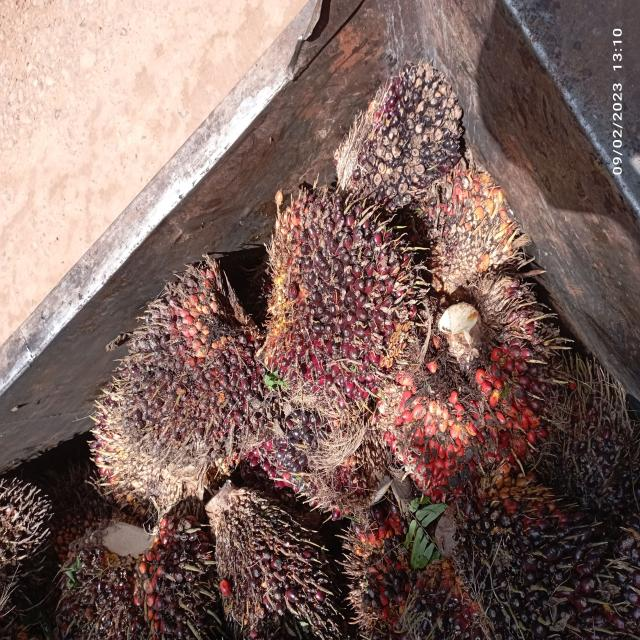fraksi 00: (82, 254, 260, 494), (457, 464, 640, 636), (329, 52, 482, 199)
fraksi 1: (251, 186, 424, 410)
fraksi 3: (387, 270, 605, 510)
